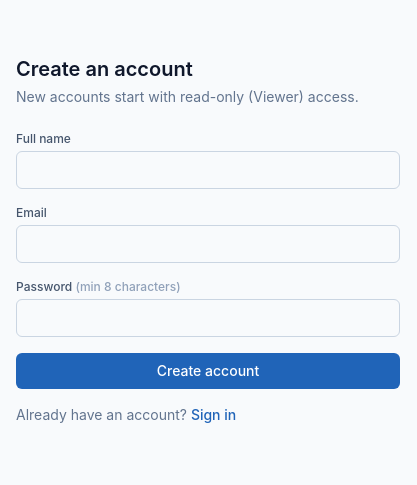
Scenario: RegisterPage › shows the backend error message on a duplicate-email response
In the field labelled "Full name": (208, 170) [16, 150, 400, 188], type "New User"
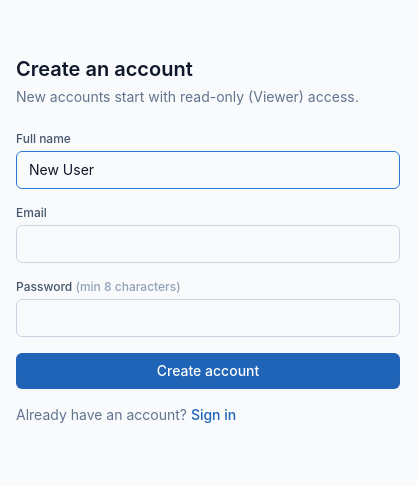
In the field labelled "Email": (208, 244) [16, 224, 400, 262], type "new@example.com"
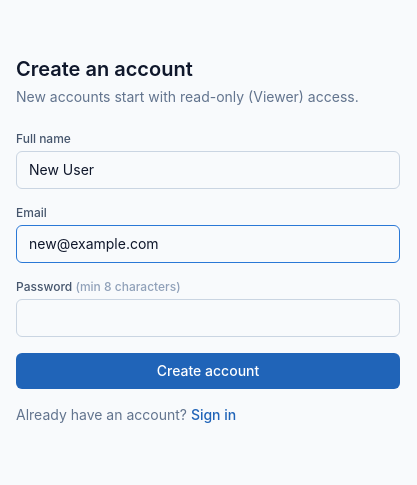
In the password field labelled "Password (min 8 characters)": (208, 318) [16, 298, 400, 336], type "Password123"
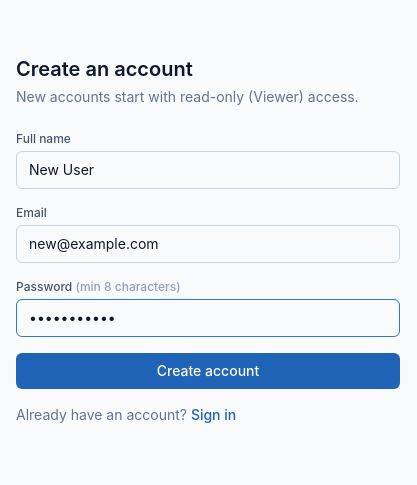
Click the button "Create account": (208, 370) [16, 352, 400, 388]
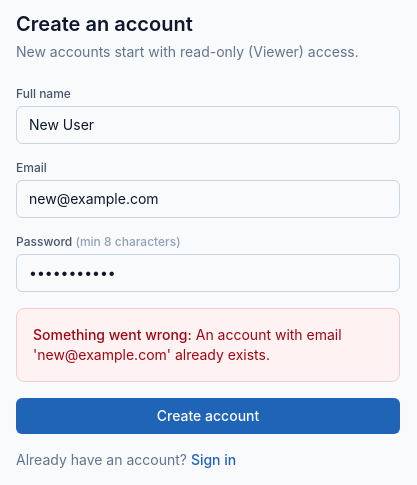
Check: the text "already exists" is shown, box [33, 326, 342, 362]
